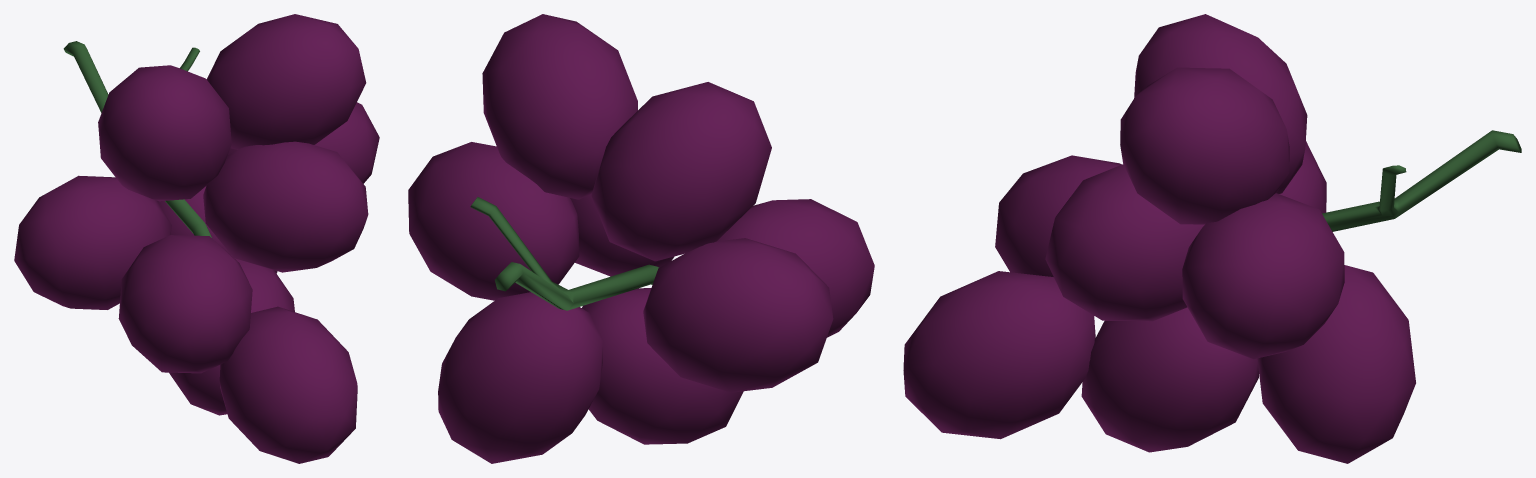
Rendered from grapes_but_stronger.obj.
3 renders of one model, left to right at view 1: azimuth 30°, elevation 25°; view 2: azimuth 150°, elevation 25°; view 3: azimuth 270°, elevation 25°, orthographic. The views are drawn at different scales.
Parts seen in each view (by area): view 1: Cylinder; view 2: Cylinder; view 3: Cylinder.
Boxes of the visible parts, x1=… form: Cylinder: x1=14, y1=14, x2=379, y2=463; Cylinder: x1=408, y1=14, x2=874, y2=463; Cylinder: x1=903, y1=14, x2=1521, y2=463.
Bounding box in the file's own units: 0.655 × 0.6224 × 0.8342.
